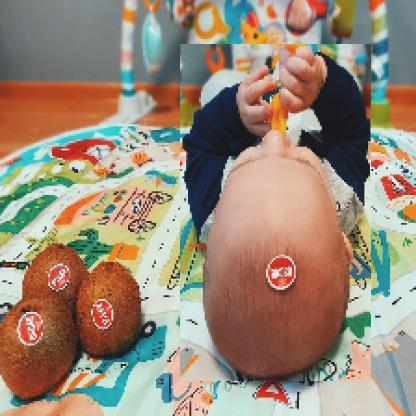child: (181, 46, 373, 384)
